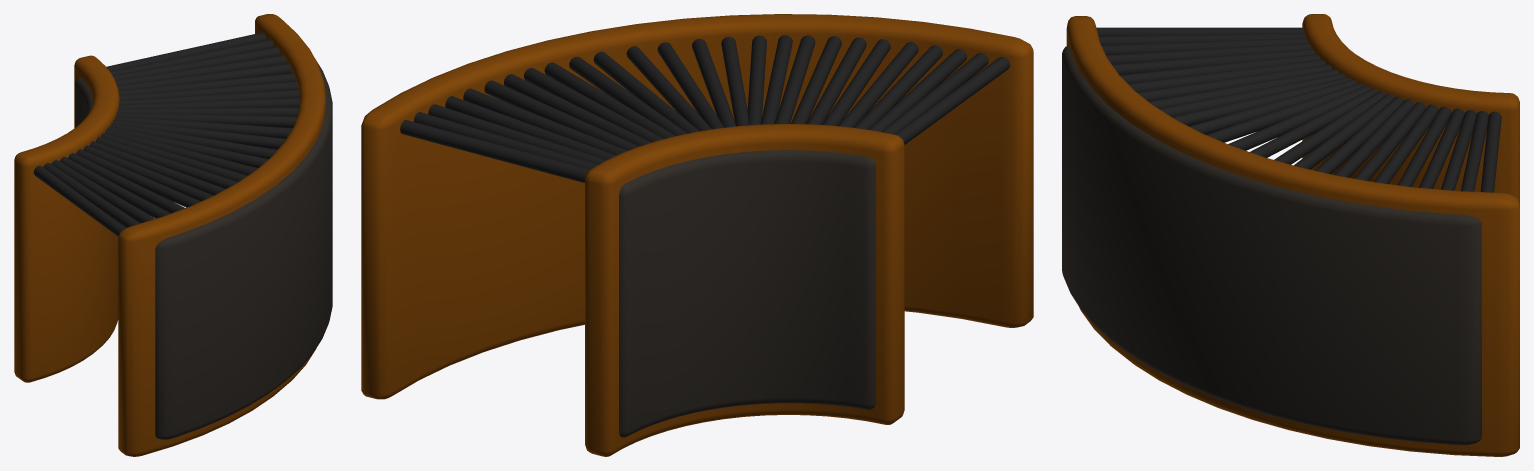
The model's file is ConveerAngle.fbx.
3 renders of one model, left to right at view 1: azimuth 30°, elevation 25°; view 2: azimuth 150°, elevation 25°; view 3: azimuth 270°, elevation 25°, orthographic. The views are drawn at different scales.
Visible parts, largest first — view 1: Cube, Cube_2, Cube_1, Cylinder_20, Cylinder_24, Cylinder_14, Cylinder_23, Cylinder_18, Cylinder_13, Cylinder_25, Cylinder, Cylinder_16 (+18 smaller); view 2: Cube_1, Cube_4, Cube_2, Cylinder_10, Cylinder, Cylinder_15, Cylinder_14, Cylinder_13, Cylinder_16, Cylinder_17, Cylinder_11, Cylinder_12 (+17 smaller); view 3: Cube, Cube_1, Cube_2, Cylinder_4, Cylinder_3, Cylinder_7, Cylinder_2, Cylinder_25, Cylinder, Cylinder_5, Cylinder_22, Cylinder_6 (+17 smaller).
Boxes of the visible parts, bbox=[...] form: Cube: bbox=[155, 59, 332, 439]; Cube_2: bbox=[14, 55, 119, 382]; Cube_1: bbox=[118, 14, 325, 456]; Cylinder_20: bbox=[116, 112, 297, 127]; Cylinder_24: bbox=[112, 119, 285, 149]; Cylinder_14: bbox=[117, 63, 290, 90]; Cylinder_23: bbox=[114, 116, 292, 138]; Cylinder_18: bbox=[118, 97, 299, 108]; Cylinder_13: bbox=[115, 55, 286, 85]; Cylinder_25: bbox=[110, 122, 276, 158]; Cylinder: bbox=[33, 165, 126, 236]; Cylinder_16: bbox=[119, 81, 297, 100]; Cube_1: bbox=[361, 14, 1033, 399]; Cube_4: bbox=[619, 150, 875, 437]; Cube_2: bbox=[585, 124, 904, 456]; Cylinder_10: bbox=[400, 120, 590, 182]; Cylinder: bbox=[894, 57, 1010, 144]; Cylinder_15: bbox=[484, 80, 638, 150]; Cylinder_14: bbox=[463, 88, 627, 155]; Cylinder_13: bbox=[445, 96, 615, 159]; Cylinder_16: bbox=[504, 74, 651, 146]; Cylinder_17: bbox=[524, 68, 663, 142]; Cylinder_11: bbox=[413, 112, 598, 169]; Cylinder_12: bbox=[428, 104, 606, 164]; Cube: bbox=[1062, 45, 1481, 445]; Cube_1: bbox=[1066, 16, 1519, 456]; Cube_2: bbox=[1302, 14, 1519, 201]; Cylinder_4: bbox=[1112, 49, 1314, 75]; Cylinder_3: bbox=[1106, 43, 1310, 64]; Cylinder_7: bbox=[1137, 64, 1332, 101]; Cylinder_2: bbox=[1102, 38, 1307, 55]; Cylinder_25: bbox=[1206, 83, 1363, 142]; Cylinder: bbox=[1096, 27, 1303, 36]; Cylinder_5: bbox=[1120, 54, 1320, 83]; Cylinder_22: bbox=[1189, 79, 1357, 134]; Cylinder_6: bbox=[1128, 59, 1325, 92].
Size of the model in its own units: 153 by 95 by 153.
